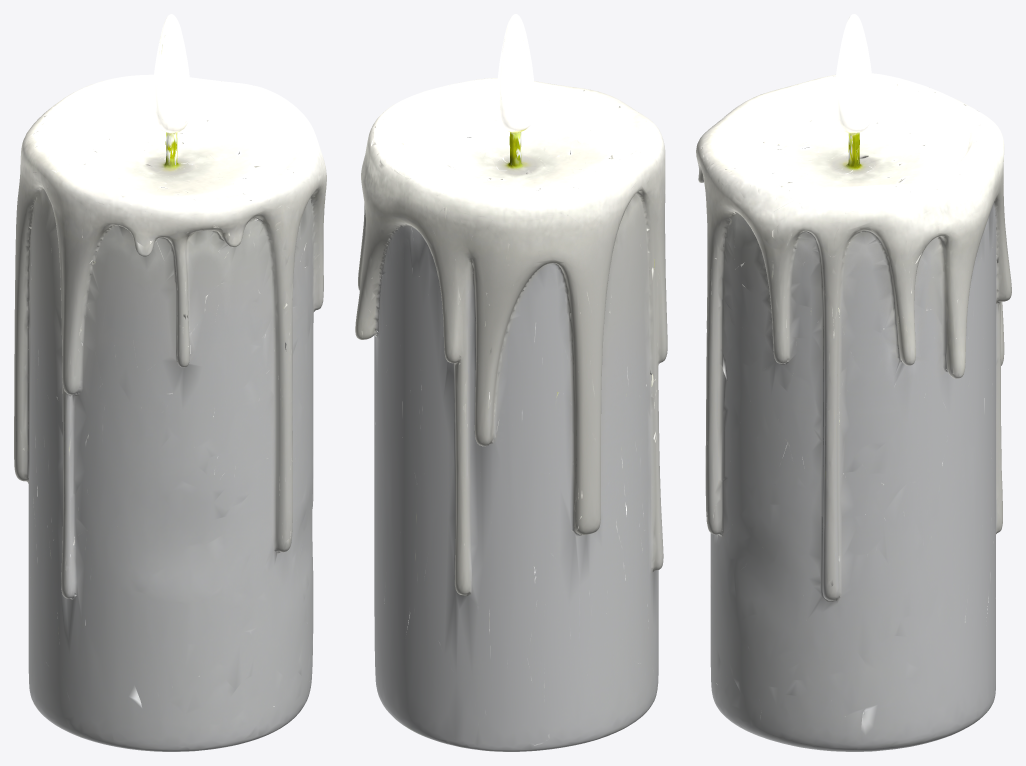
File: candle.glb
The picture shows the model from 3 angles, left to right: view 1: azimuth 30°, elevation 25°; view 2: azimuth 150°, elevation 25°; view 3: azimuth 270°, elevation 25°; orthographic projection.
Bounding box in the file's own units: 0.76 × 1.91 × 0.7987.
Materials: 1 (1 with a texture image).
